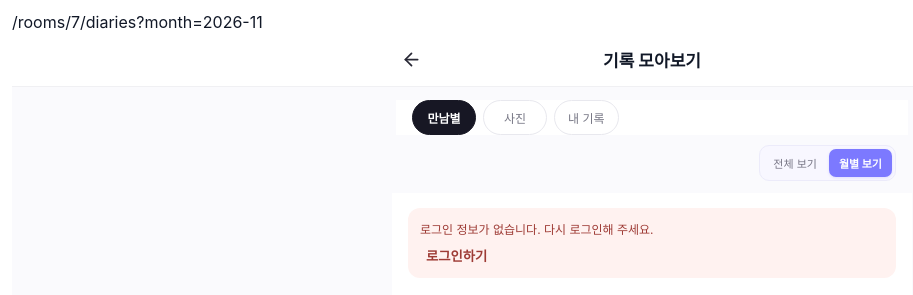
it: missing auth session offers login instead of retrying protected queries
This screenshot has width=913, height=295.
Expected: the message shows "다시 로그인해 주세요.", [420,222,654,237]
Step 1. Click the button "로그인하기" → (457, 256), box [420,245,493,266]
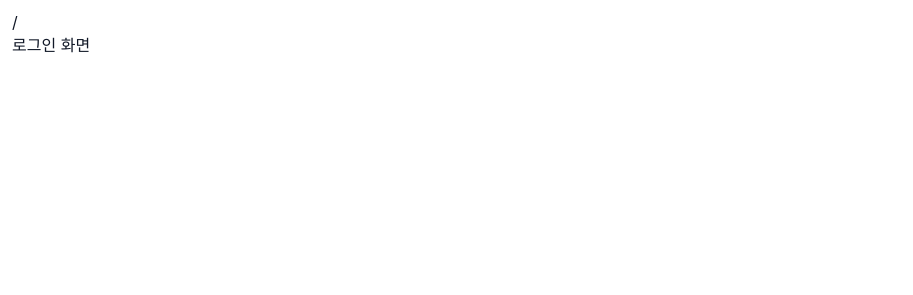
Now the text "로그인 화면" is shown, box [12,35,90,55]
